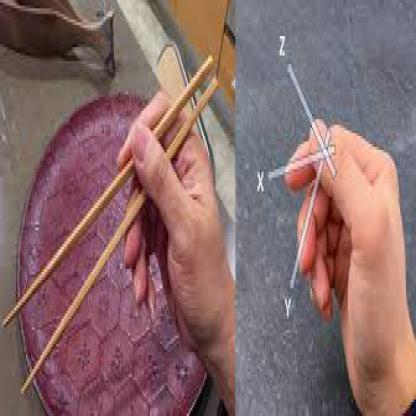chopstick: (20, 77, 219, 396), (4, 53, 214, 327)
